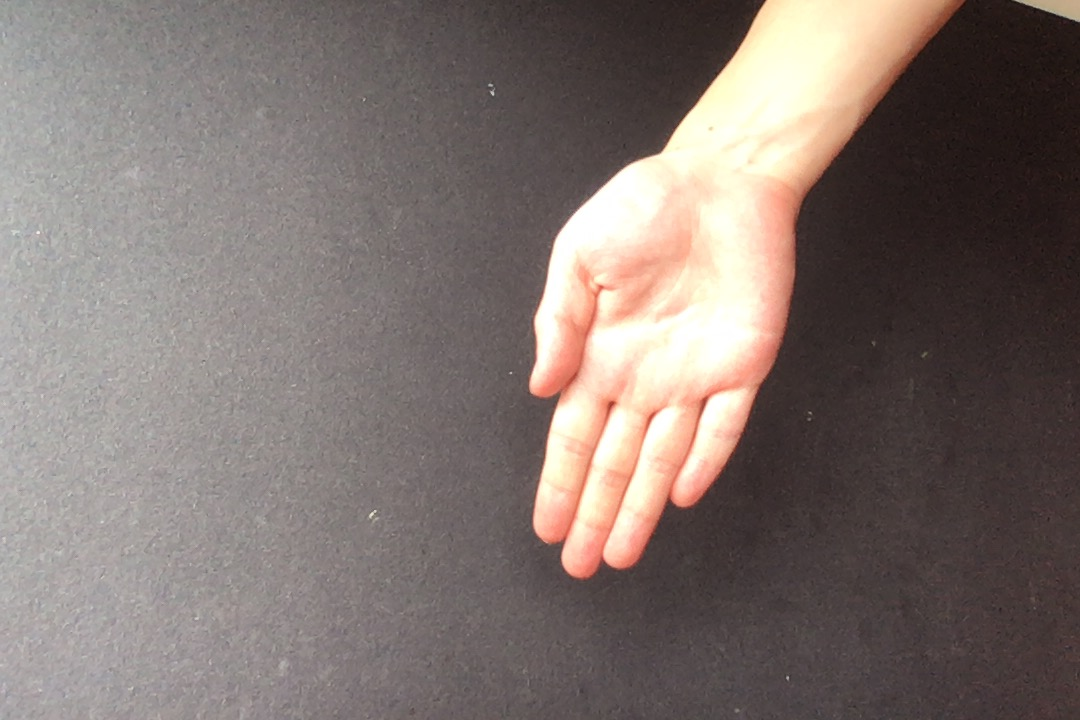palmhand: (519, 149, 801, 578)
